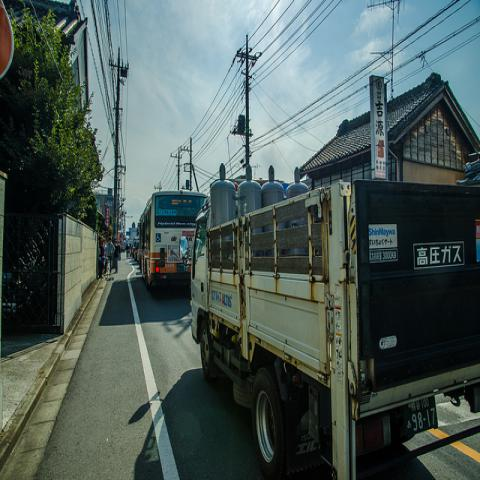bus: (138, 192, 211, 297)
truck: (188, 158, 480, 476)
